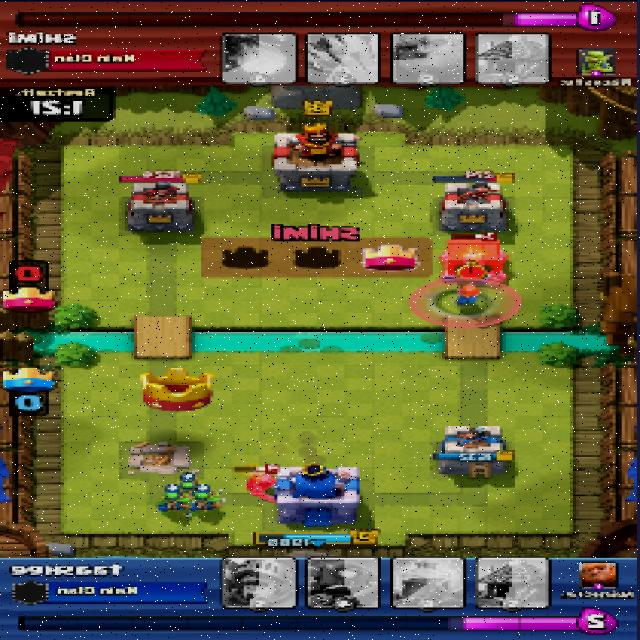Enemy-MiniPEKKA: (244, 469, 277, 502)
Enemy-SpearGoblin: (156, 492, 190, 516), (194, 490, 224, 510), (176, 478, 199, 498)
Player-GoblinCage: (436, 236, 511, 282)
Player-Valkyrie: (453, 283, 491, 308)
